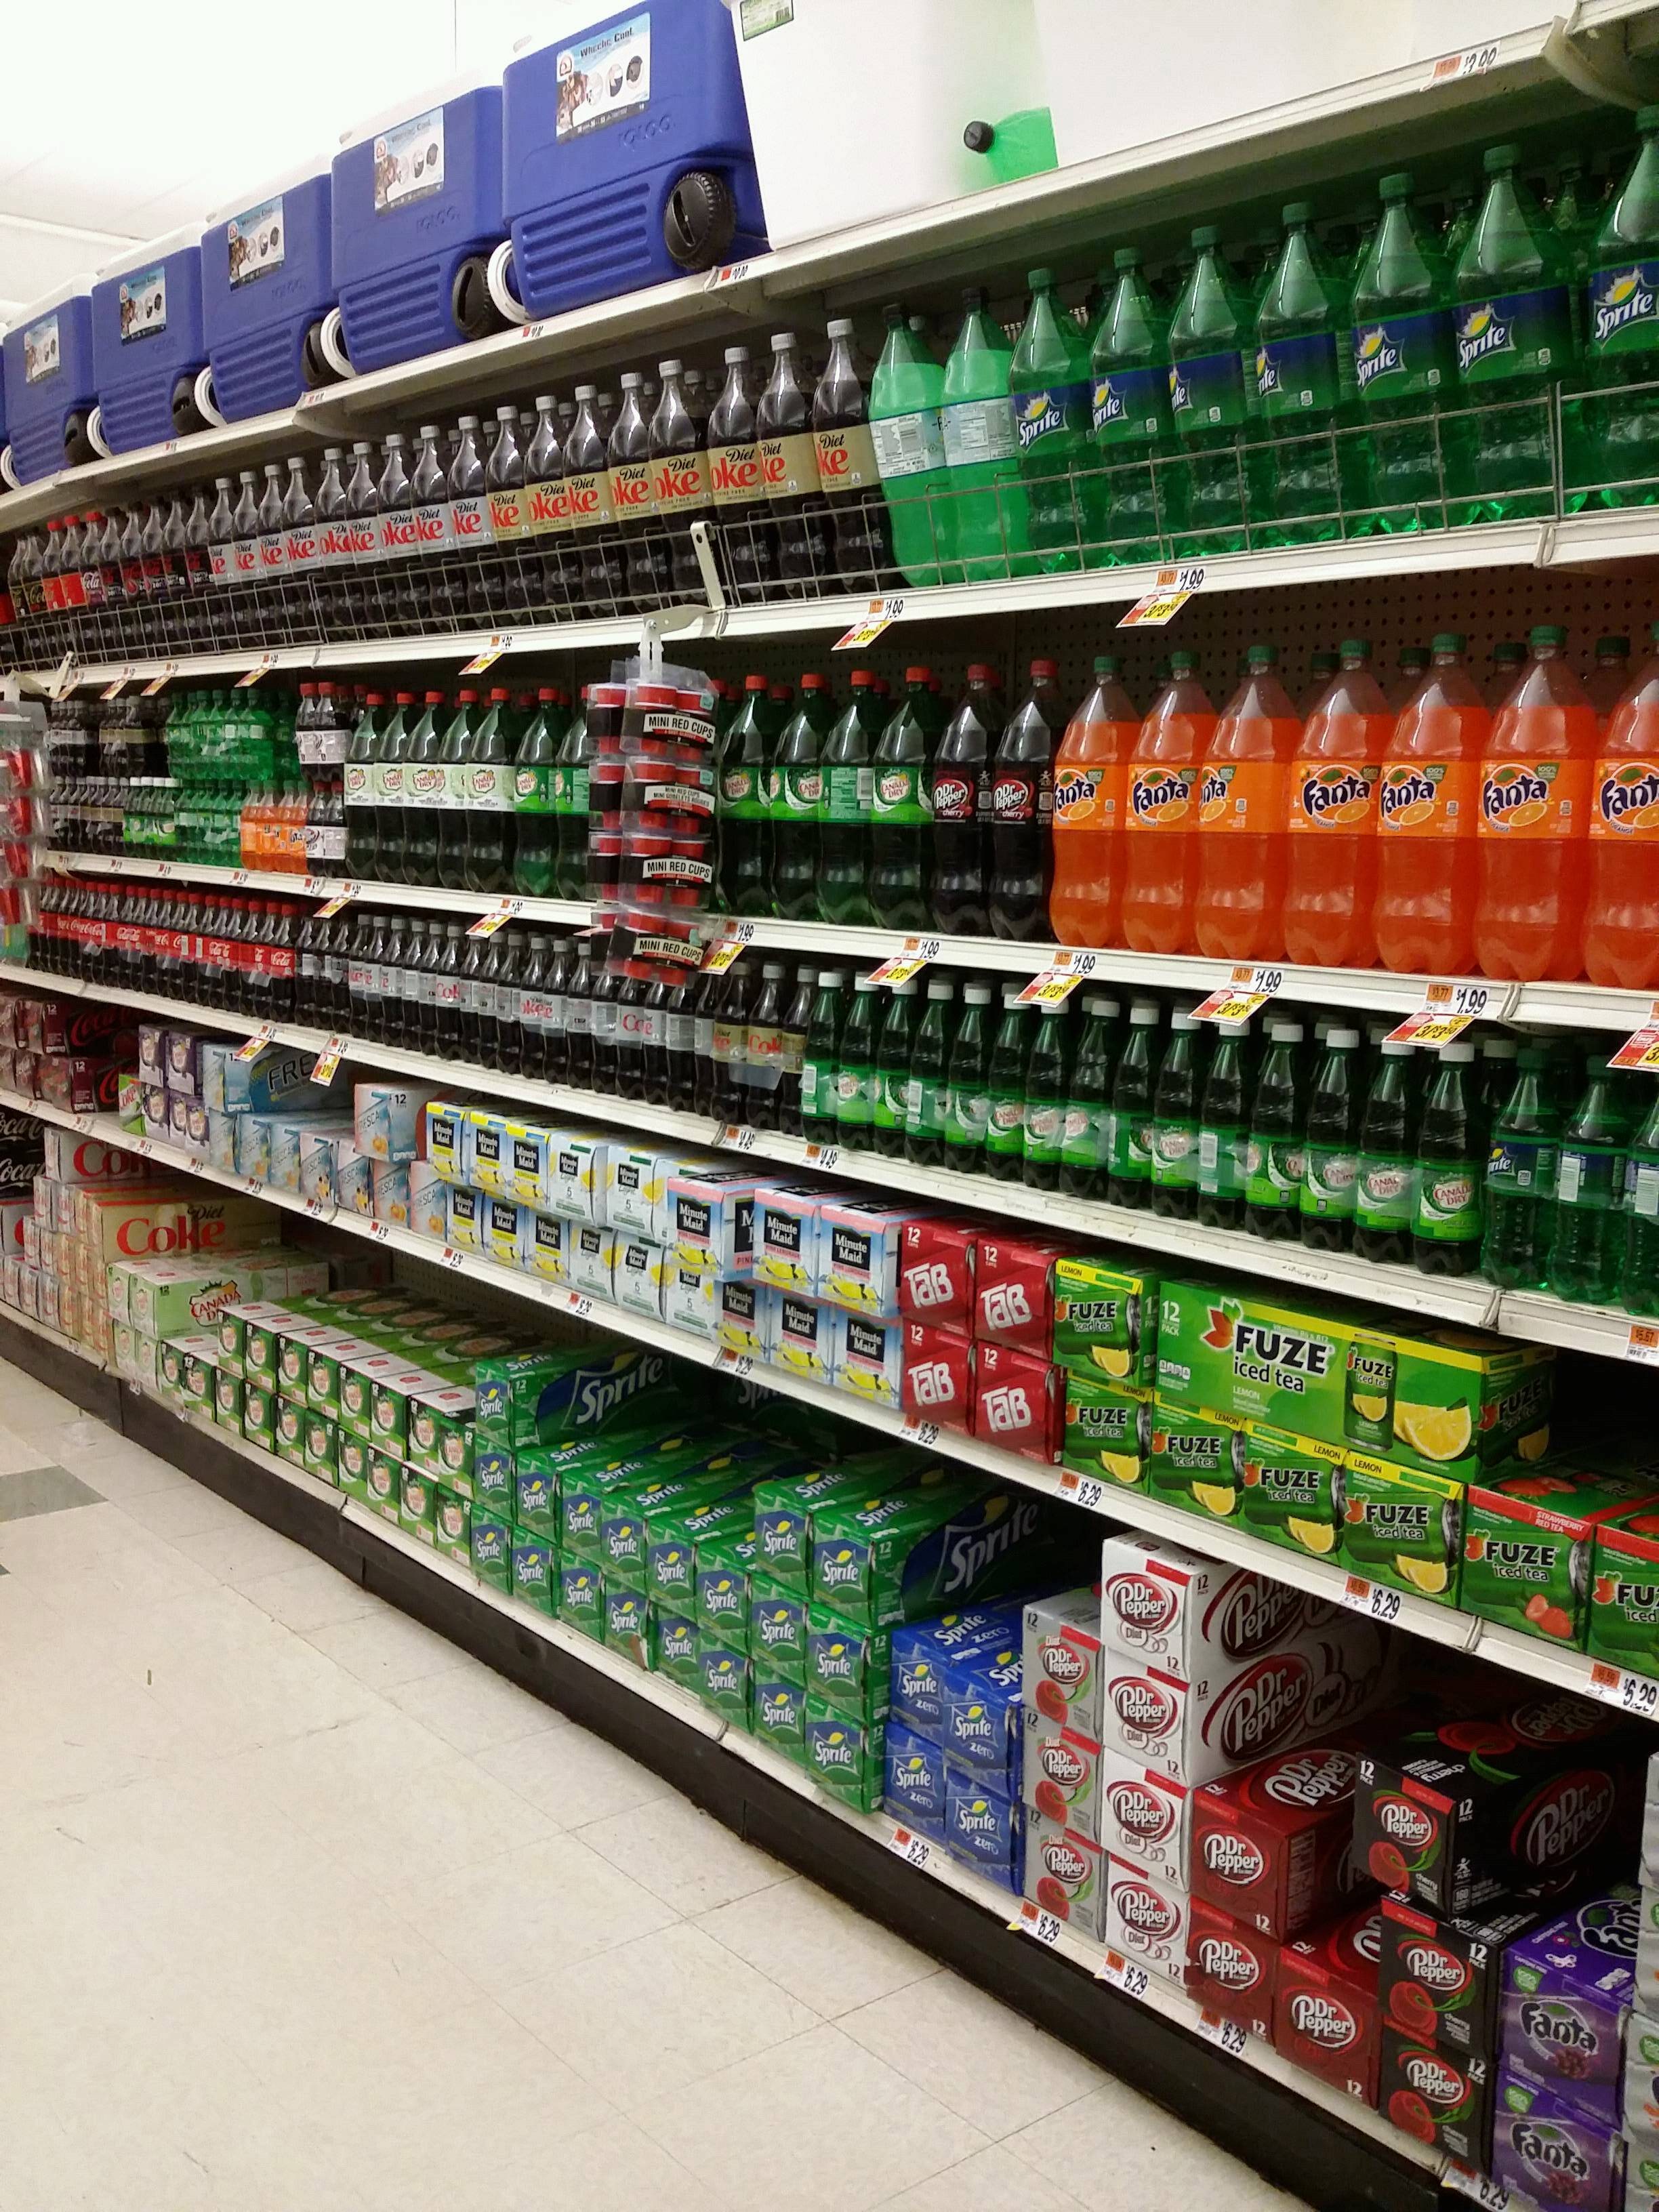Misplacement: (511, 1369, 751, 1721), (47, 1129, 110, 1374)
